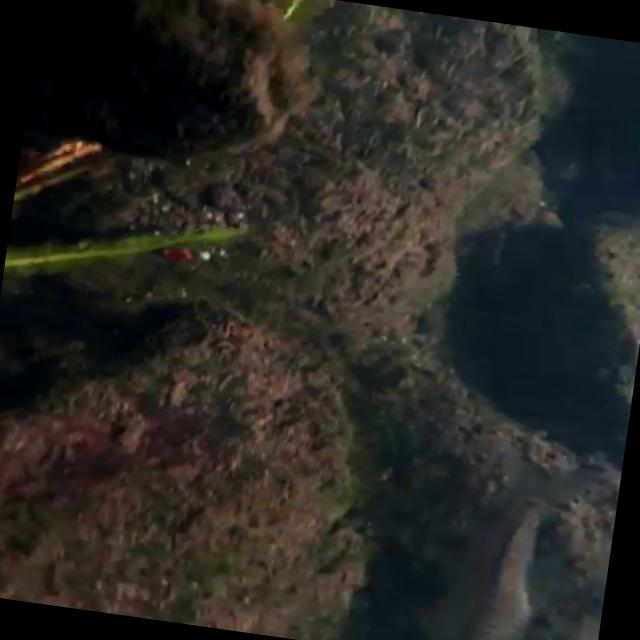Cakil Baligi: (422, 442, 621, 640)
